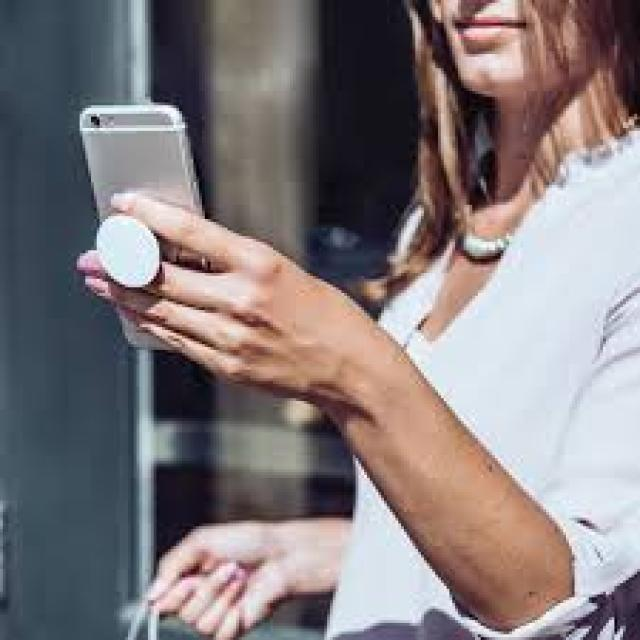Smartphone: (68, 95, 216, 271)
